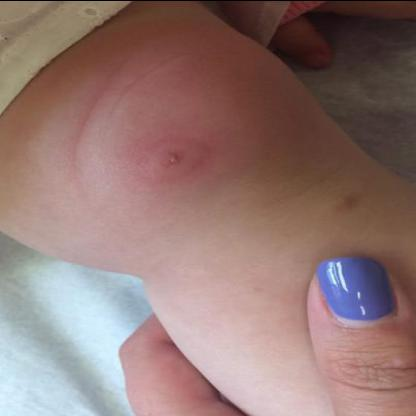Fire ant: (32, 127, 80, 171), (0, 185, 40, 211), (209, 132, 240, 158)
